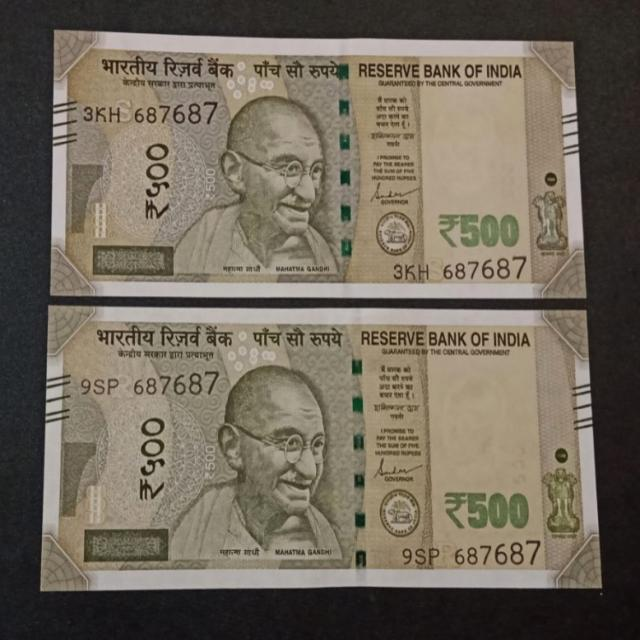500IndianRupees: (54, 36, 582, 293)
